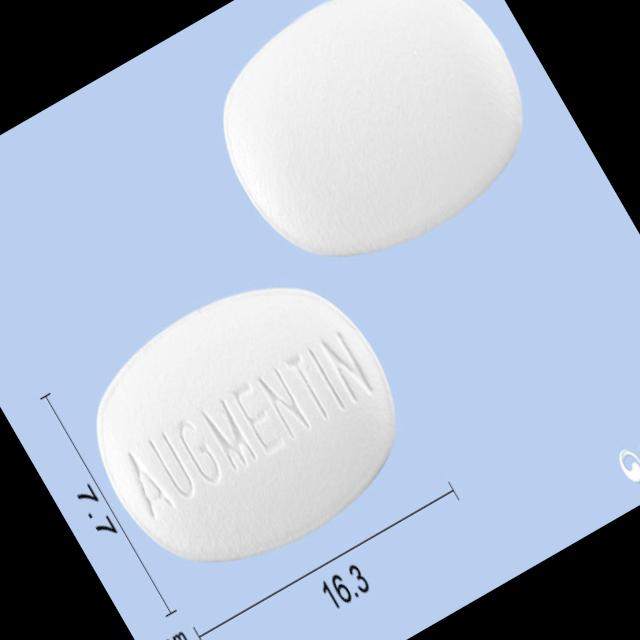Augmentin: (56, 240, 440, 610)
